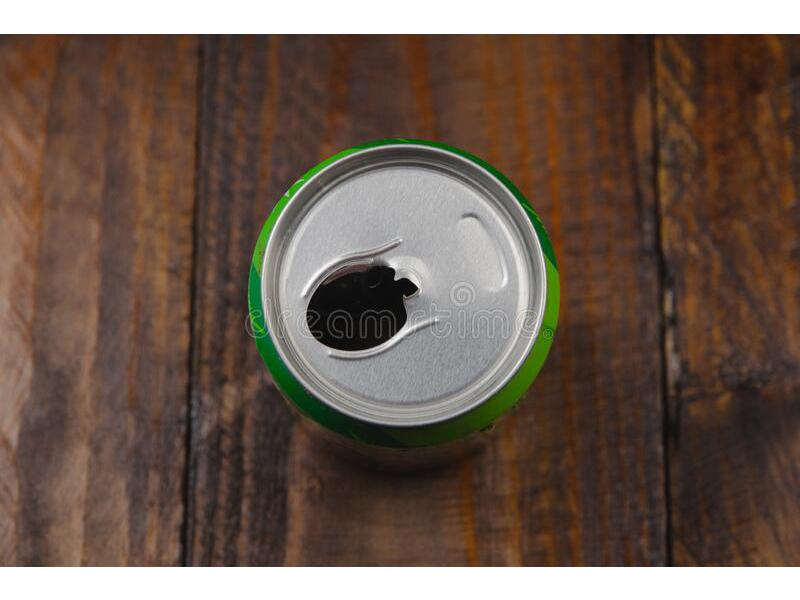can: (241, 132, 569, 453)
